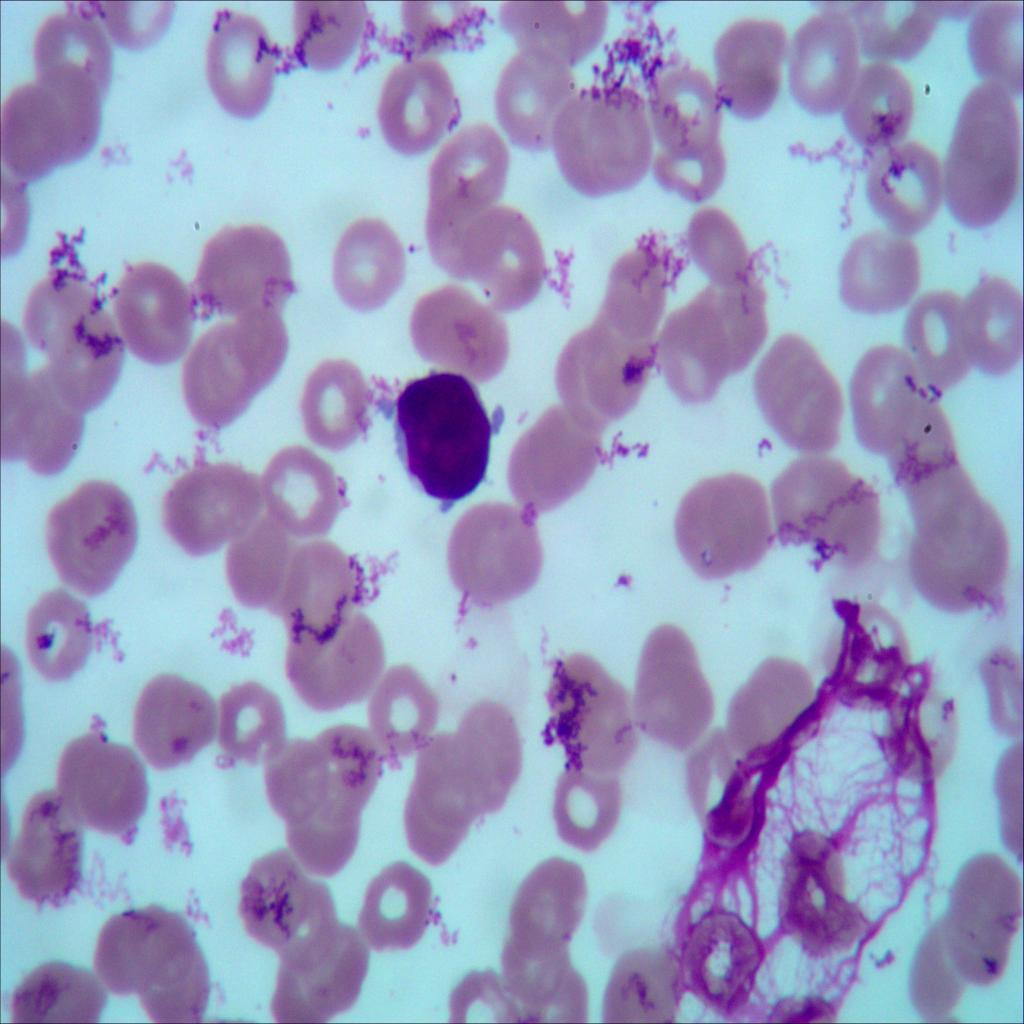Limfoblast: (388, 362, 502, 518)
